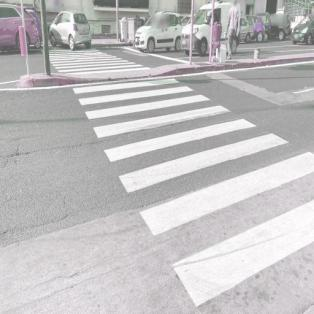Paso de Cebra: (103, 117, 291, 195), (68, 77, 203, 109)
